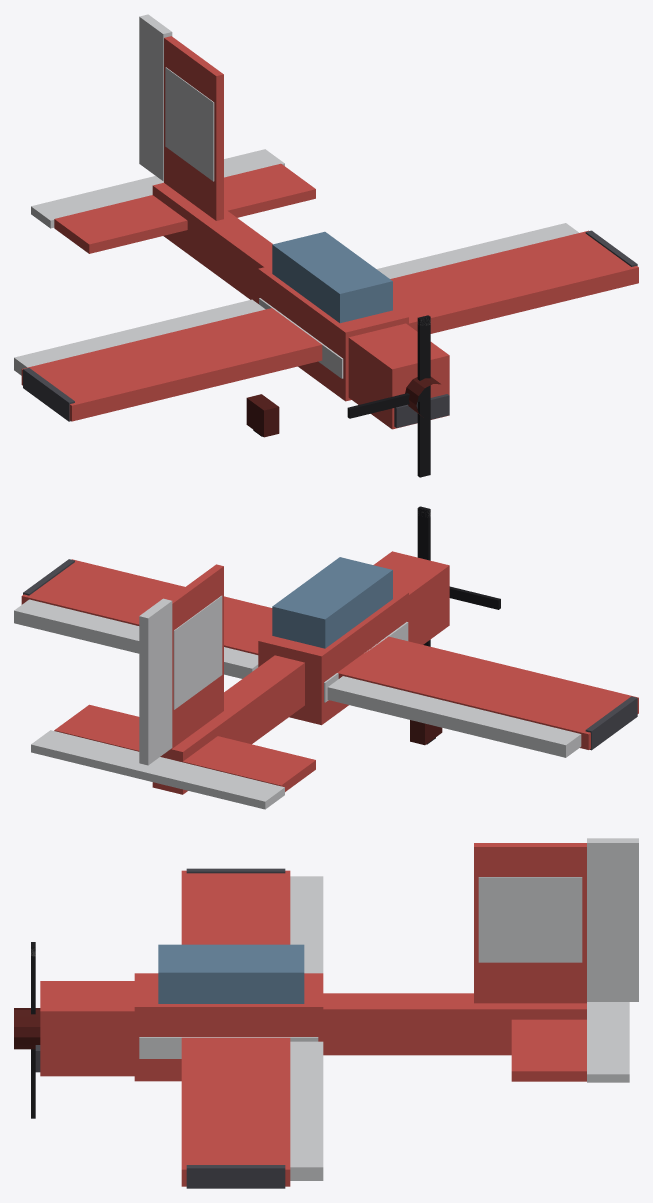
The model's file is extra330.glb.
The picture shows the model from 3 angles, top to bottom: view 1: azimuth 30°, elevation 25°; view 2: azimuth 150°, elevation 25°; view 3: azimuth 270°, elevation 25°; orthographic projection. The views are drawn at different scales.
Visible parts, largest first — view 1: Fuselage, Wings, Rudder, Aileron_L, Elevator, Propeller, Aileron_R, Gear; view 2: Fuselage, Wings, Aileron_L, Elevator, Rudder, Aileron_R, Propeller, Gear; view 3: Fuselage, Wings, Rudder, Aileron_R, Elevator, Aileron_L, Propeller.
Boxes of the visible parts, x1,y1,x2,y2 form: Fuselage: (54,36,449,429); Wings: (21,230,638,421); Rudder: (139,14,172,181); Aileron_L: (14,299,265,375); Elevator: (31,149,284,228); Propeller: (347,315,440,477); Aileron_R: (376,223,579,278); Gear: (246,394,279,437); Fuselage: (54,551,449,794); Wings: (21,559,638,750); Aileron_L: (327,676,581,757); Elevator: (31,730,284,809); Rudder: (139,598,172,765); Aileron_R: (14,599,258,678); Propeller: (417,506,500,646); Gear: (410,720,442,745); Fuselage: (35,843,586,1081); Wings: (181,868,290,1188); Rudder: (587,838,638,1001); Aileron_R: (290,1041,323,1180); Elevator: (587,1002,629,1082); Aileron_L: (290,876,323,973); Propeller: (14,942,40,1118).
Size of the model in its own units: 7.52 by 3.22 by 6.63.
